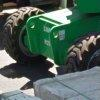Tractor: (7, 2, 98, 75)
